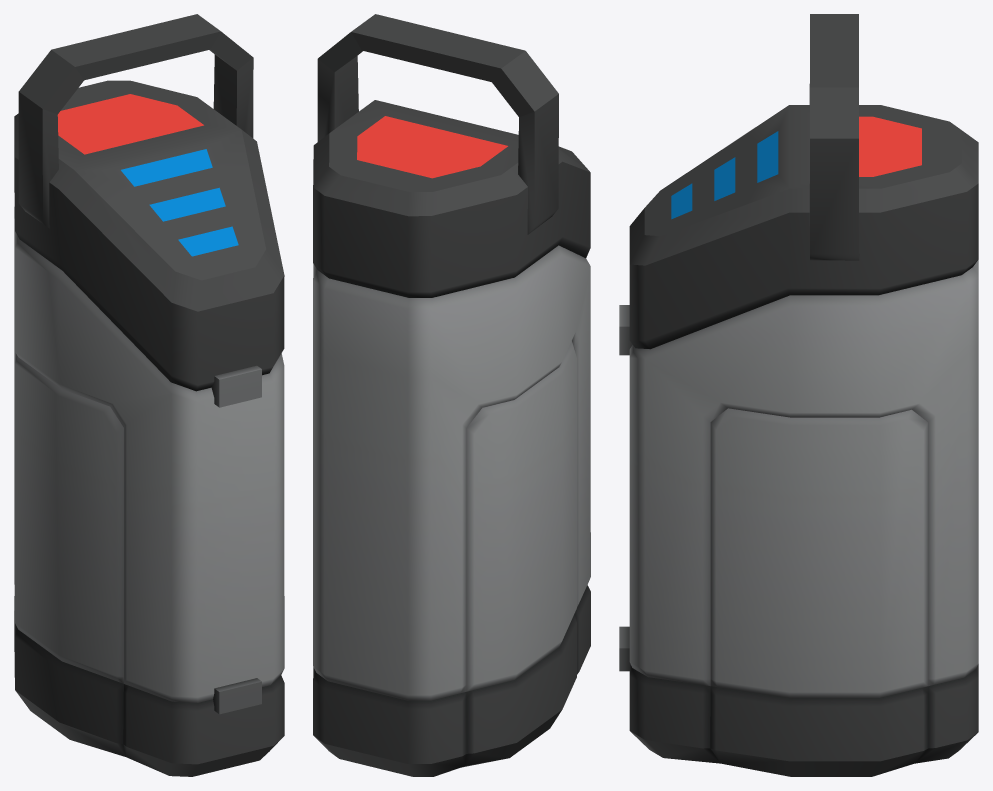
The model's file is Barrel_001.fbx.
3 views of the same model, side by side, from view 1: azimuth 30°, elevation 25°; view 2: azimuth 150°, elevation 25°; view 3: azimuth 270°, elevation 25° (orthographic). The views are drawn at different scales.
Visible parts, largest first — view 1: Barrel_001; view 2: Barrel_001; view 3: Barrel_001.
Boxes of the visible parts, <box> form: Barrel_001: <box>14,14,284,776</box>; Barrel_001: <box>313,14,590,776</box>; Barrel_001: <box>619,14,978,776</box>.
Size of the model in its own units: 43.09 by 61.73 by 129.
